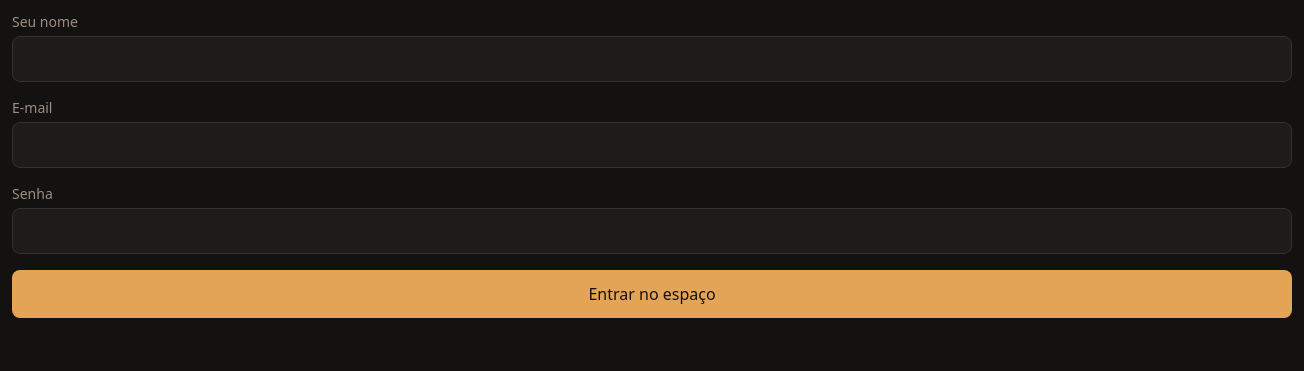
Test: InviteForm › mostra erro quando o e-mail já está em uso
Type "Ana" into the field labelled "Seu nome" at (652, 59), box top-left (12, 36), bottom-right (1292, 82)
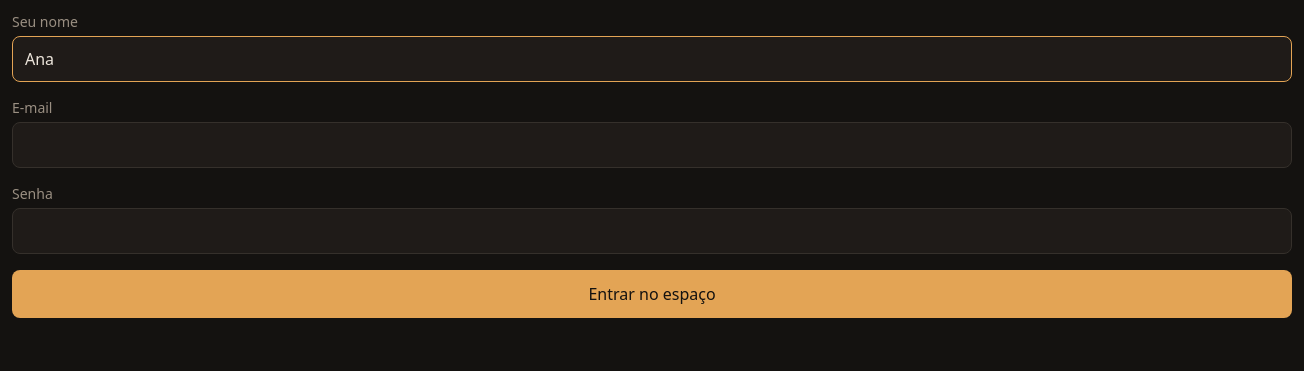
Type "a@x.co" into the field labelled "E-mail" at (652, 145), box top-left (12, 122), bottom-right (1292, 168)
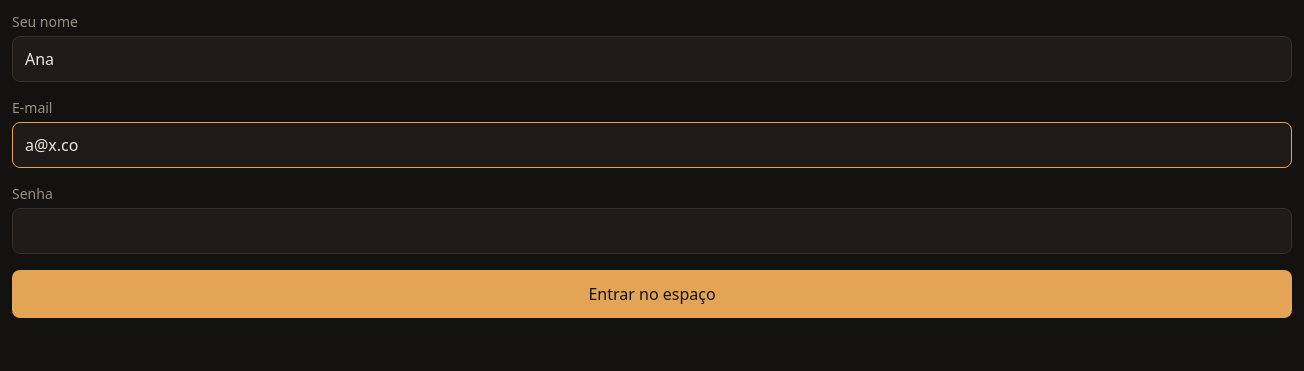
Type "senha-forte" into the password field labelled "Senha" at (652, 231), box top-left (12, 208), bottom-right (1292, 254)
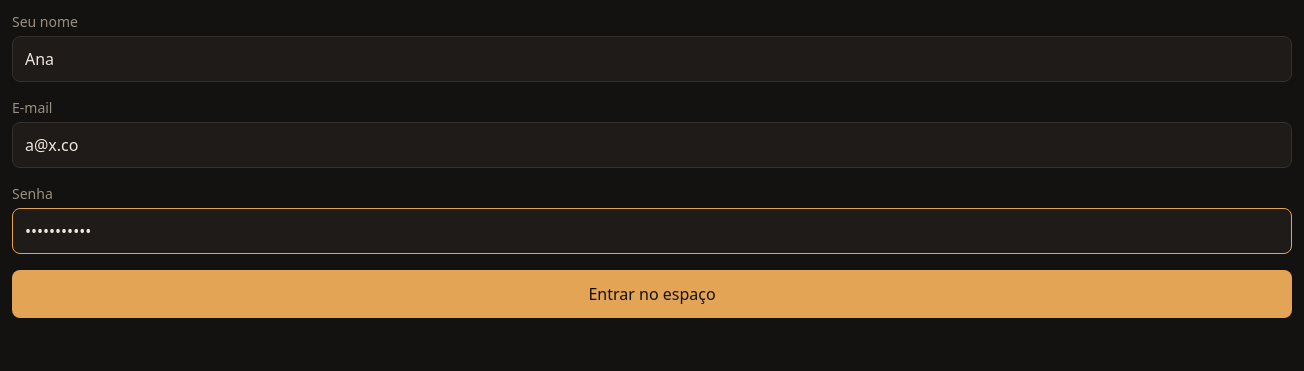
Click the button "Entrar no espaço" at (652, 294), box top-left (12, 270), bottom-right (1292, 318)
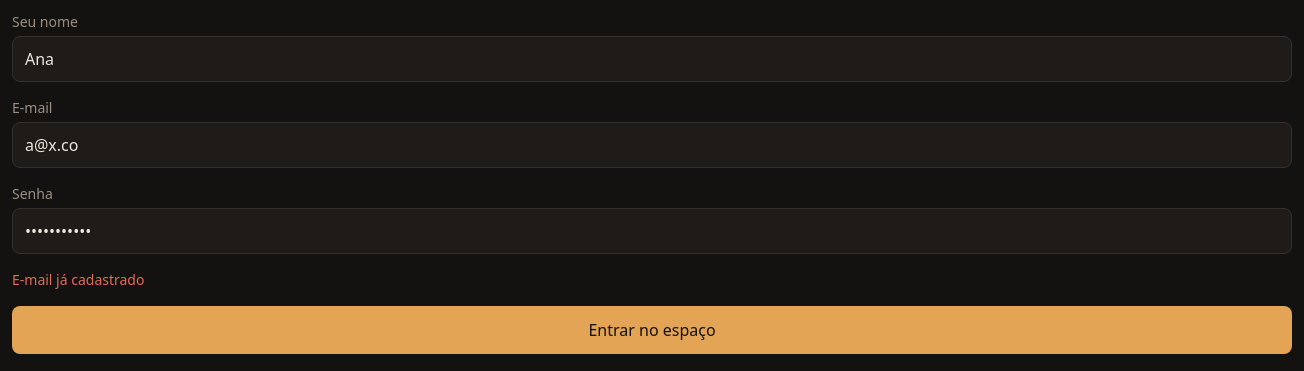
Result: the message reads "E-mail já cadastrado" at top-left (12, 270), bottom-right (144, 289)
